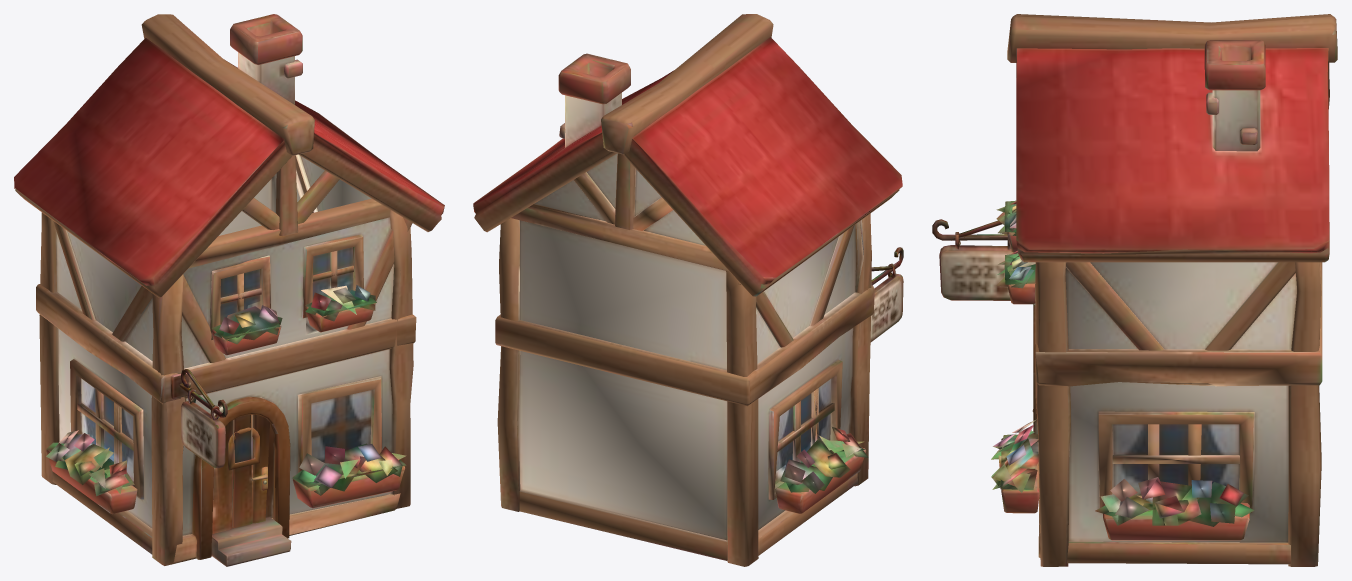
Rendered from inn.glb.
3 renders of one model, left to right at view 1: azimuth 30°, elevation 25°; view 2: azimuth 150°, elevation 25°; view 3: azimuth 270°, elevation 25°, orthographic. The views are drawn at different scales.
Size of the model in its own units: 0.7301 by 0.9526 by 0.7241.
Materials: 1 (1 with a texture image).
